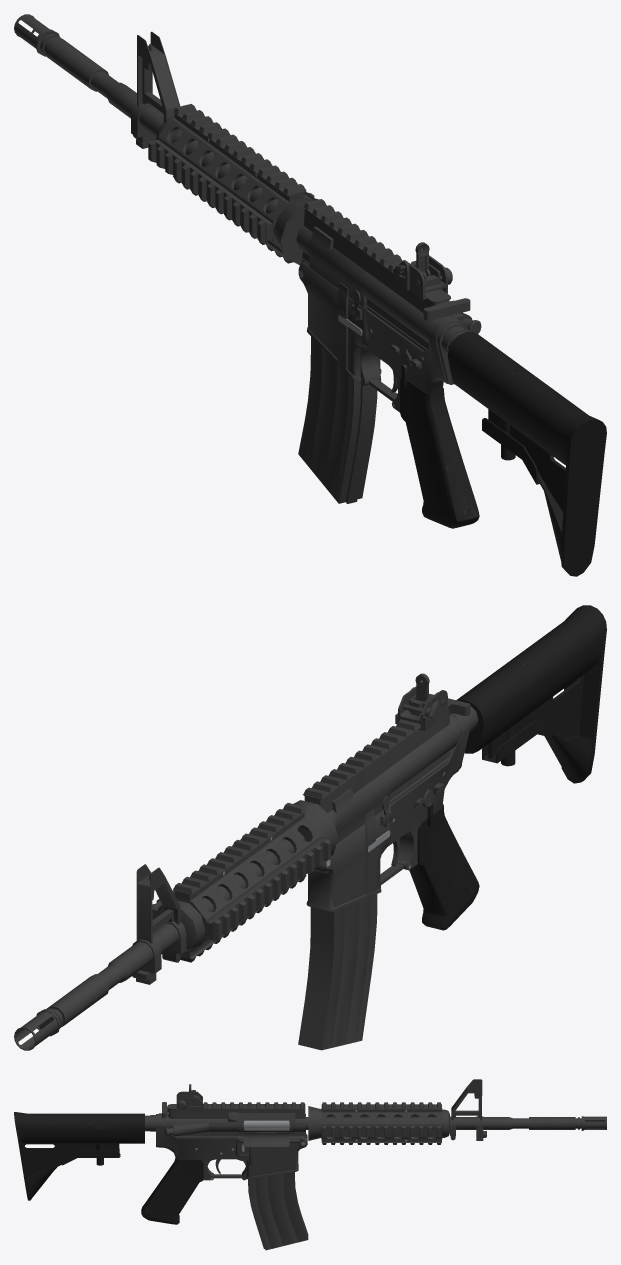
File: gun_m4.glb
The picture shows the model from 3 angles, top to bottom: view 1: azimuth 30°, elevation 25°; view 2: azimuth 150°, elevation 25°; view 3: azimuth 270°, elevation 25°; orthographic projection. The views are drawn at different scales.
Visible parts, largest first — view 1: Base, Barrel, Stock, Magazine, Sight; view 2: Base, Barrel, Stock, Magazine, Sight; view 3: Base, Barrel, Stock, Magazine, Ejector_Lid, Sight, Ejector.
Part boxes in pixels (x1=…): Base: x1=296, y1=199, x2=481, y2=528; Barrel: x1=14, y1=14, x2=318, y2=265; Stock: x1=441, y1=326, x2=606, y2=576; Magazine: x1=298, y1=336, x2=377, y2=503; Sight: x1=395, y1=242, x2=447, y2=299; Base: x1=303, y1=702, x2=479, y2=930; Barrel: x1=14, y1=800, x2=338, y2=1050; Stock: x1=456, y1=605, x2=606, y2=783; Magazine: x1=298, y1=894, x2=377, y2=1050; Sight: x1=395, y1=673, x2=447, y2=730; Base: x1=141, y1=1102, x2=307, y2=1224; Barrel: x1=306, y1=1079, x2=606, y2=1144; Stock: x1=14, y1=1112, x2=155, y2=1200; Magazine: x1=248, y1=1172, x2=308, y2=1250; Ejector_Lid: x1=237, y1=1132, x2=296, y2=1146; Sight: x1=176, y1=1084, x2=202, y2=1111; Ejector: x1=243, y1=1120, x2=289, y2=1128.
Bounding box in the file's own units: 0.0636 × 0.2663 × 0.8588.
Materials: 1 (1 with a texture image).
